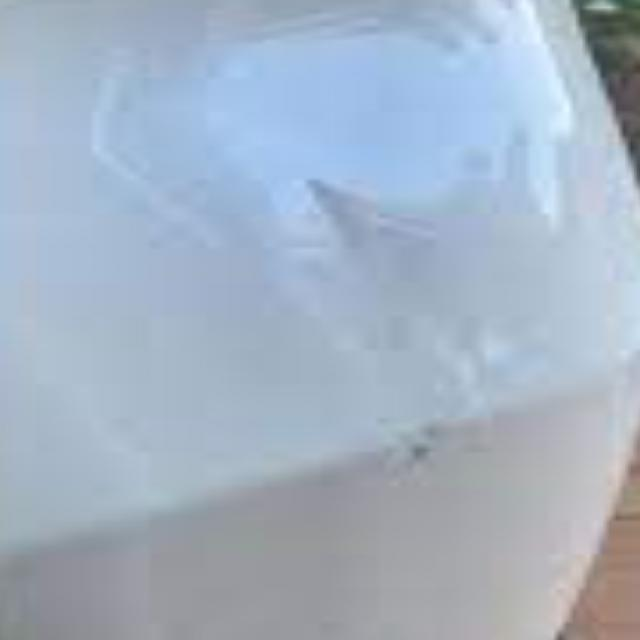dents: (254, 163, 534, 370)
